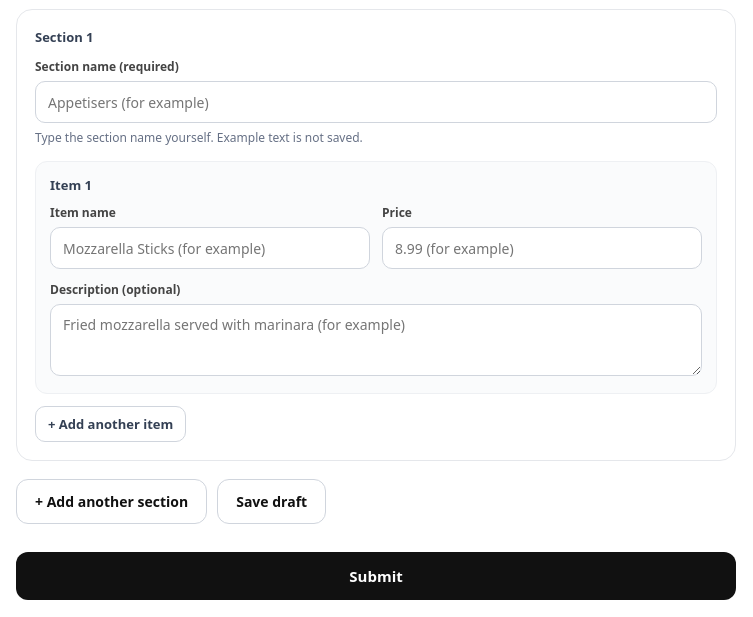
Test: ManualMenuEntryPage › shows remove section only on the additional section after add section
(page scrolled)
What coordinates should you click on to do the following:
click the button "+ Add another section"
I would click on:
 (112, 502)
Its box is [16,479,207,524].
(page scrolled)
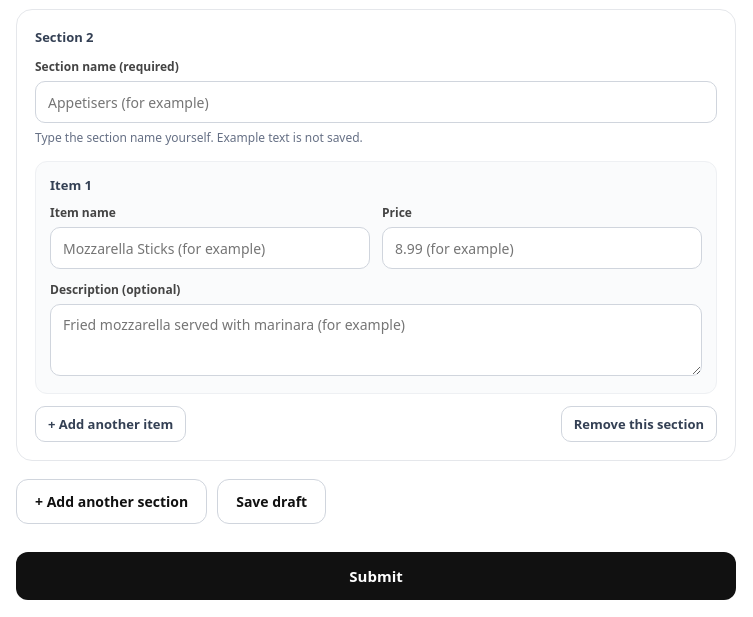
Check: the number of buttons "Remove this section" is 1, box [561,406,717,442]
Check: the number of elements with test id "manual-menu-section-card" is 2
